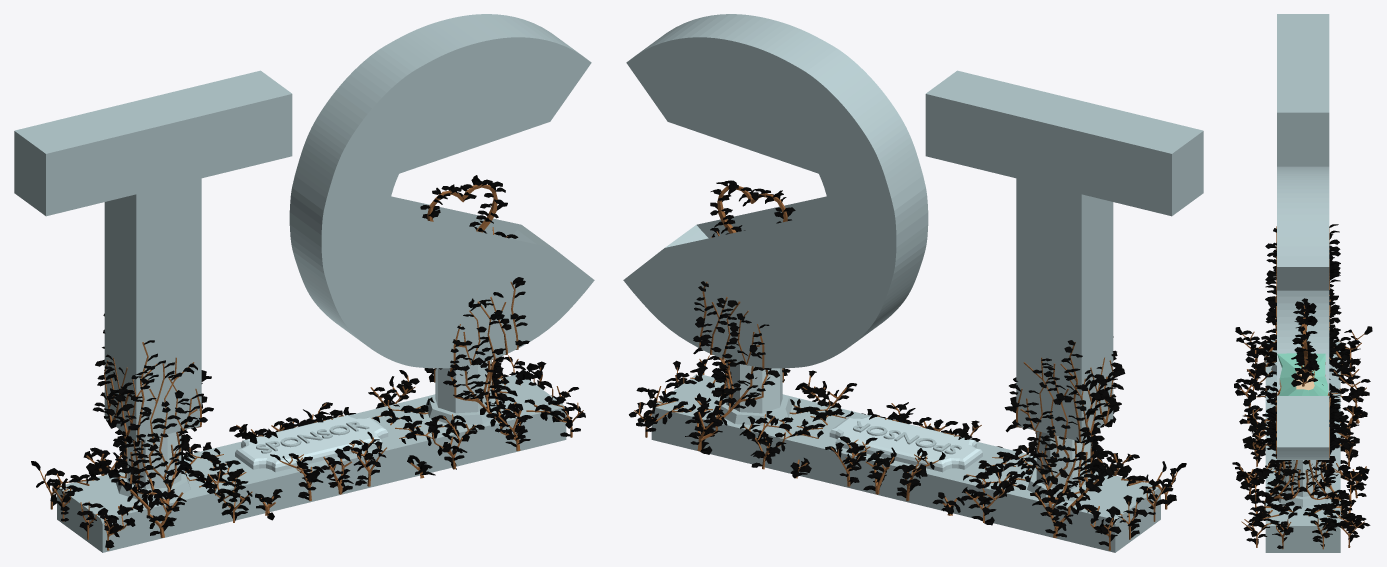
The model's file is Sponsor_TC.fbx.
The picture shows the model from 3 angles, left to right: view 1: azimuth 30°, elevation 25°; view 2: azimuth 150°, elevation 25°; view 3: azimuth 270°, elevation 25°; orthographic projection. The views are drawn at different scales.
Visible parts, largest first — view 1: Sponsor_TC; view 2: Sponsor_TC; view 3: Sponsor_TC.
Part boxes in pixels (x1,y1,x2,y2): Sponsor_TC: (14, 14, 594, 552); Sponsor_TC: (623, 14, 1203, 552); Sponsor_TC: (1232, 14, 1372, 552).
Bounding box in the file's own units: 0.9037 × 0.6482 × 0.2434.
